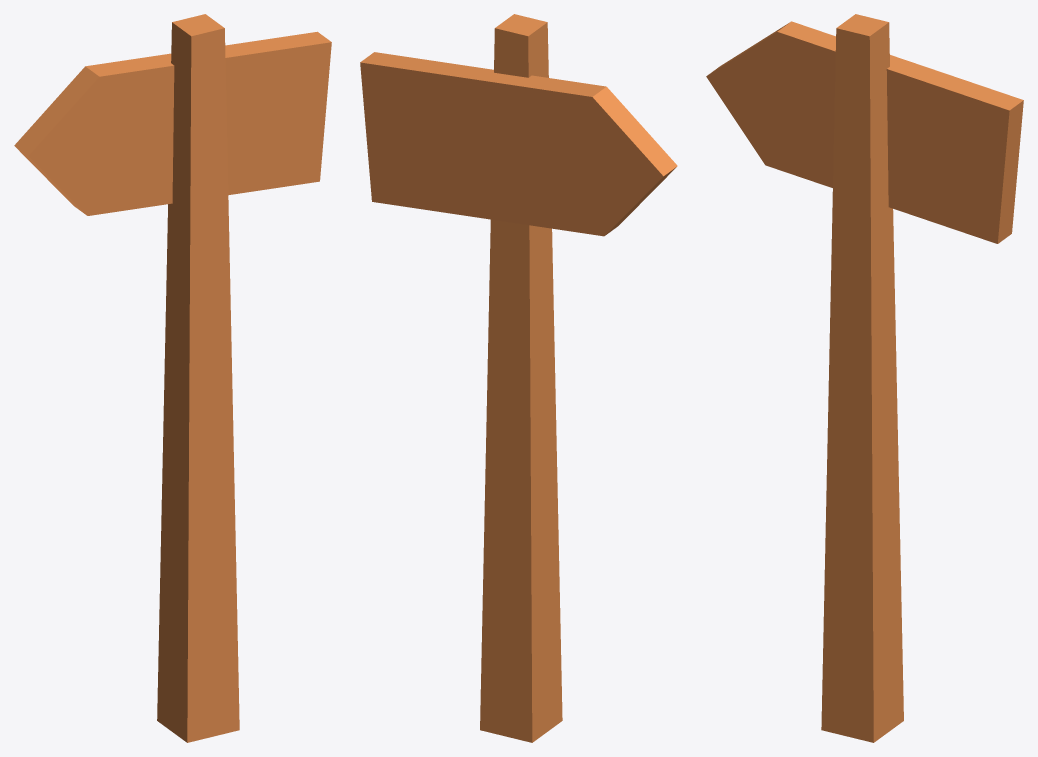
Rendered from signpostSingle.obj.
The picture shows the model from 3 angles, left to right: view 1: azimuth 30°, elevation 25°; view 2: azimuth 150°, elevation 25°; view 3: azimuth 330°, elevation 25°; orthographic projection.
Visible parts, largest first — view 1: signpostSingle; view 2: signpostSingle; view 3: signpostSingle.
Part boxes in pixels (x1,y1,x2,y2): signpostSingle: (14, 14, 331, 742); signpostSingle: (360, 14, 677, 742); signpostSingle: (706, 14, 1023, 742).
Size of the model in its own units: 0.2086 by 0.4601 by 0.043.
